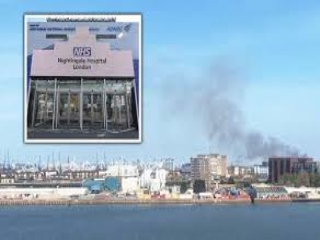smoke: (219, 113, 309, 170)
